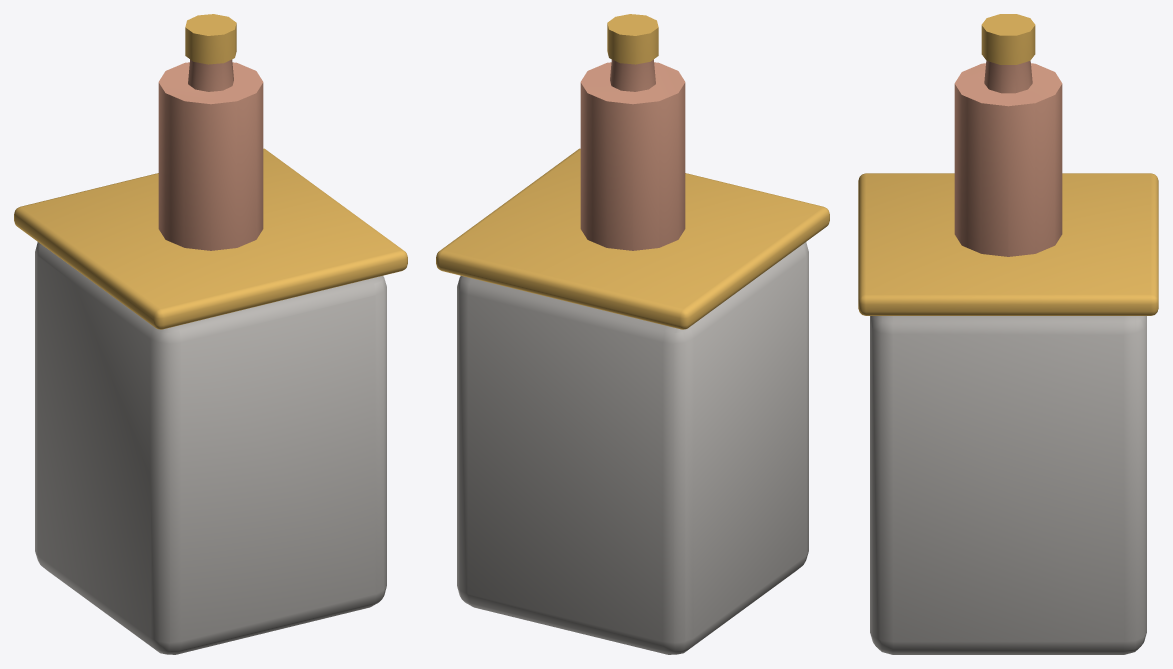
Rendered from gift-maya.glb.
3 views of the same model, side by side, from view 1: azimuth 30°, elevation 25°; view 2: azimuth 150°, elevation 25°; view 3: azimuth 270°, elevation 25° (orthographic). The views are drawn at different scales.
Parts seen in each view (by area): view 1: gift-maya; view 2: gift-maya; view 3: gift-maya.
Part boxes in pixels (x1=…): gift-maya: x1=14, y1=14, x2=407, y2=654; gift-maya: x1=436, y1=14, x2=829, y2=654; gift-maya: x1=858, y1=14, x2=1158, y2=654.
Bounding box in the file's own units: 0.39 × 0.83 × 0.39.
